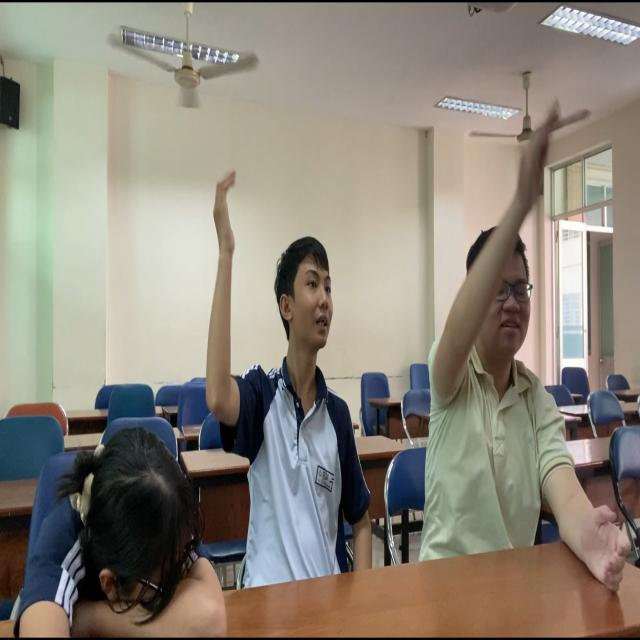raise_hand: (203, 162, 379, 589), (418, 106, 574, 560)
sleep: (17, 424, 222, 640)
